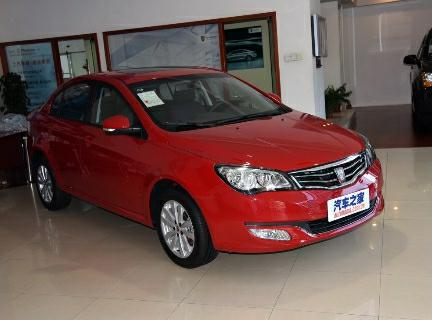car: (16, 65, 392, 269)
